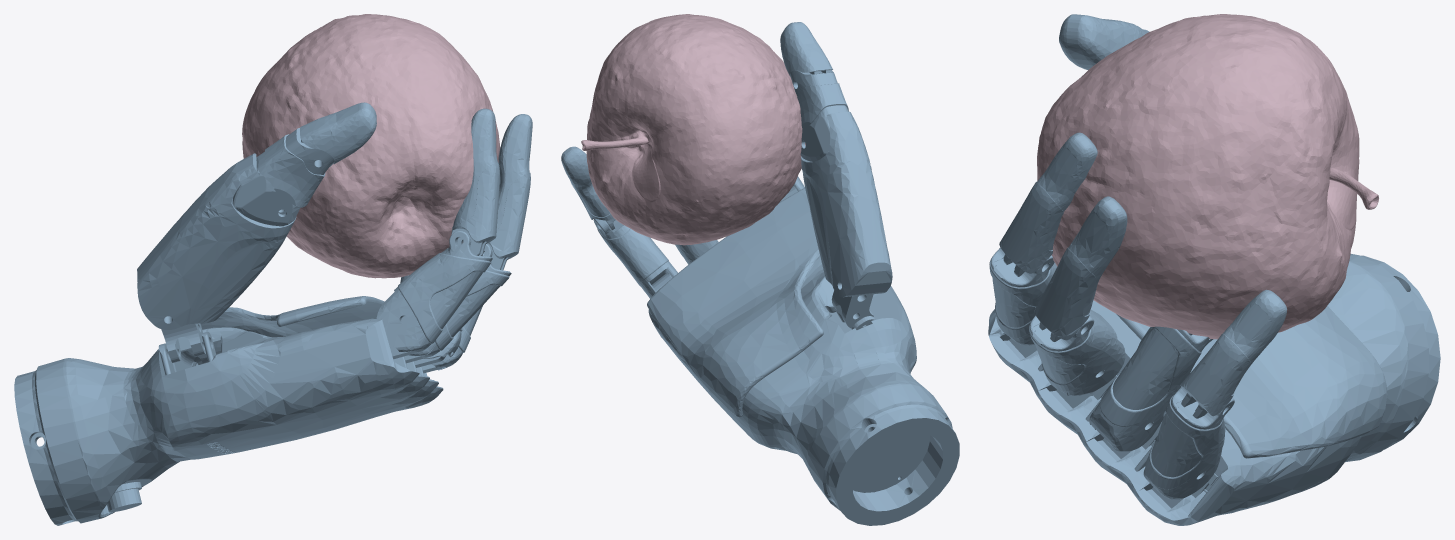
3 renders of one model, left to right at view 1: azimuth 30°, elevation 25°; view 2: azimuth 150°, elevation 25°; view 3: azimuth 270°, elevation 25°, orthographic. The views are drawn at different scales.
Parts seen in each view (by area): view 1: world, obj_mesh_grasp_15.obj; view 2: world, obj_mesh_grasp_15.obj; view 3: world, obj_mesh_grasp_15.obj.
Boxes of the visible parts, x1,y1,x2,y2 form: world: [14, 102, 532, 525]; obj_mesh_grasp_15.obj: [242, 14, 500, 278]; world: [561, 22, 959, 525]; obj_mesh_grasp_15.obj: [581, 14, 805, 245]; world: [988, 14, 1440, 525]; obj_mesh_grasp_15.obj: [1037, 14, 1378, 339].
Bounding box in the file's own units: 0.1731 × 0.1691 × 0.1172.
